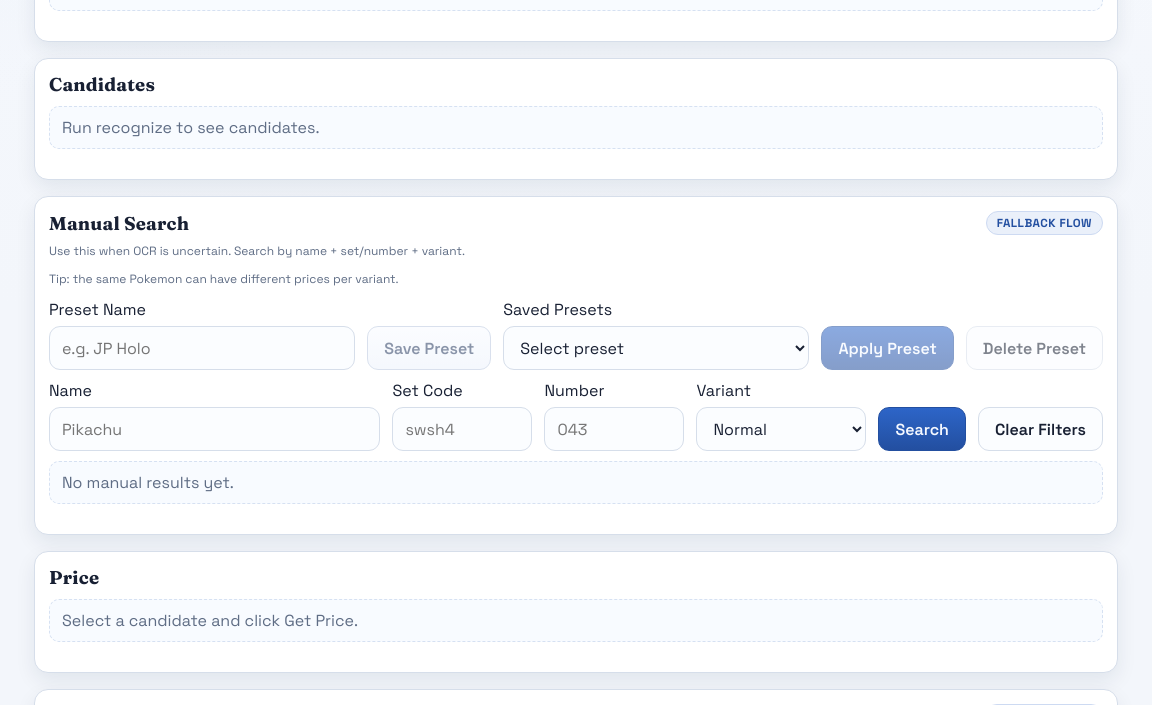
Scenario: HomePage › disables manual form actions while search is loading
(page scrolled)
In the field labelled "Preset Name": (202, 348) [49,326,355,370], type "Busy preset"
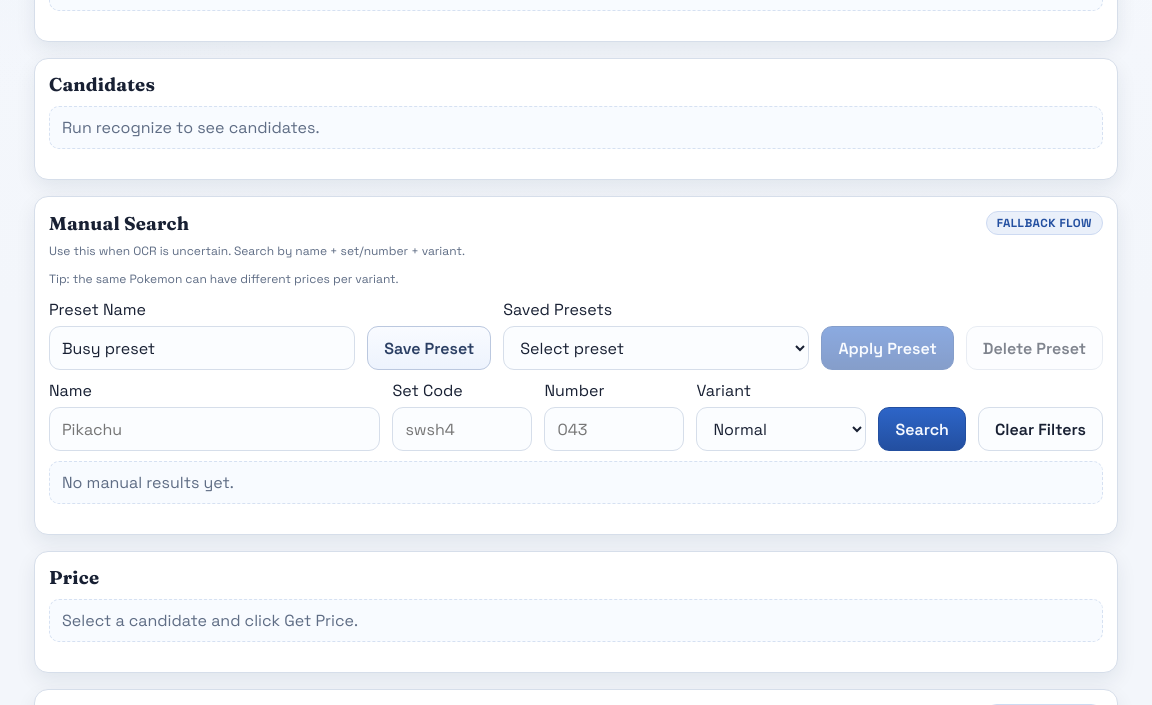
In the field labelled "Name": (215, 429) [49,407,380,451], type "Charizard"
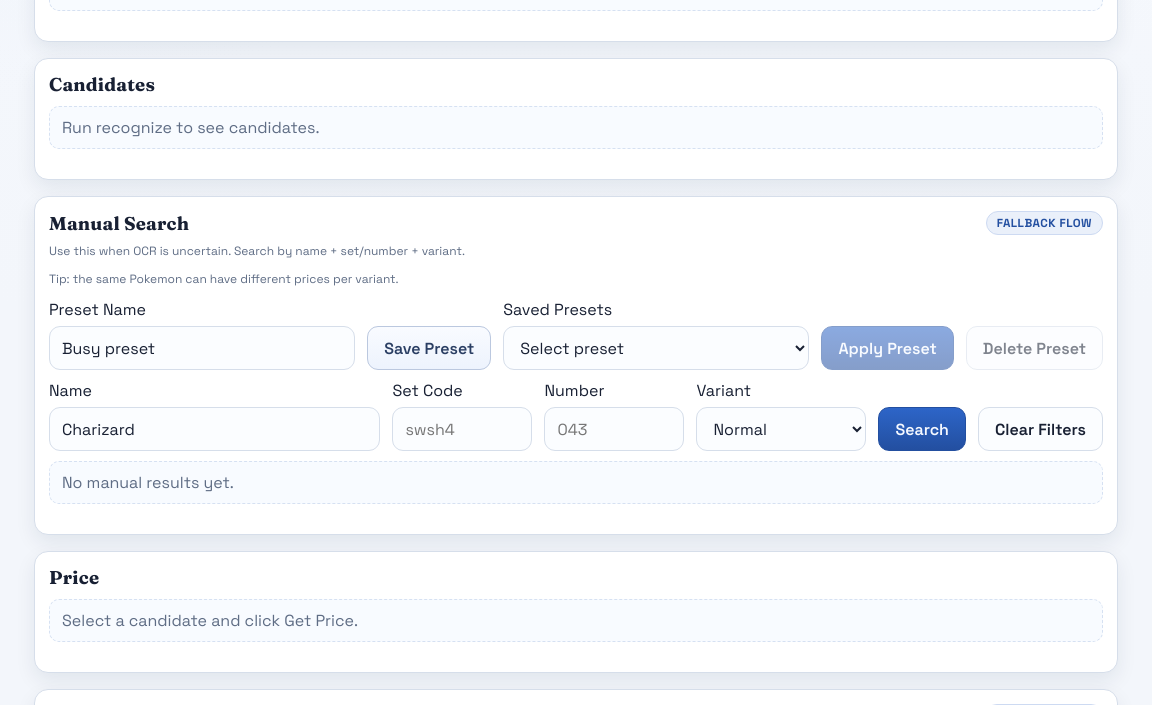
Click the button "Search": (922, 429) [878,407,966,451]
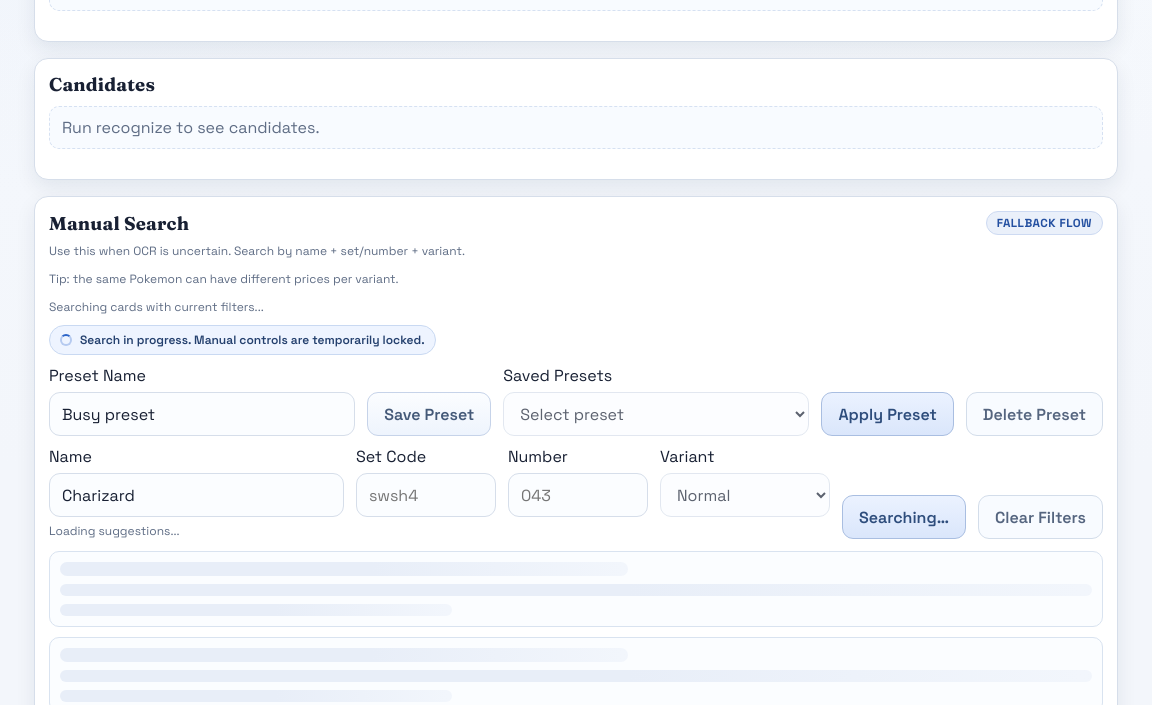
Expected: the button "Searching…" is disabled, [842,495,966,539]
Expected: the button "Save Preset" is disabled, [367,392,491,436]
Expected: the button "Clear Filters" is disabled, [978,495,1103,539]
